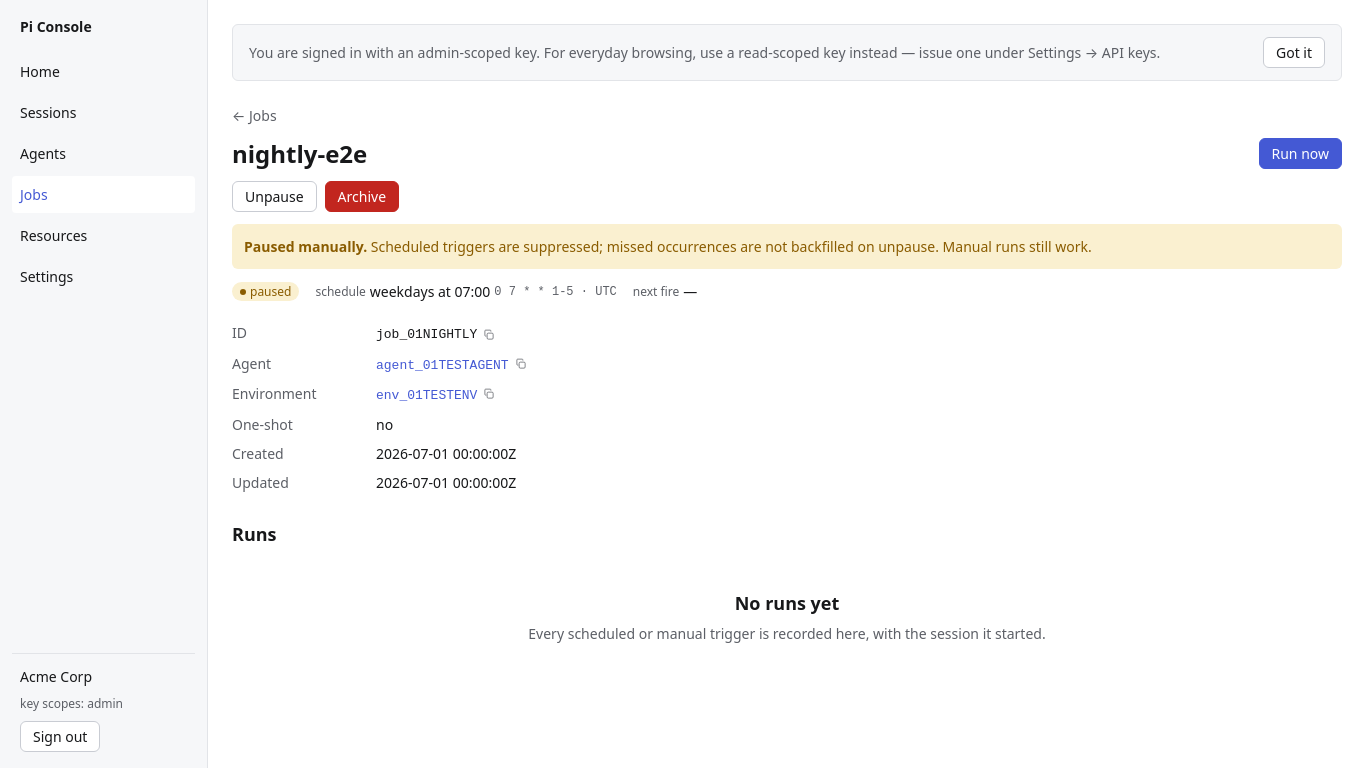
Test: job lifecycle (§9.4, write-gated, §17.5) › admin unpauses a paused job; the pause banner clears
Expected: the message shows "Paused manually.", [244, 237, 367, 256]
Click the button "Unpause" at [274, 197], box [232, 181, 317, 212]
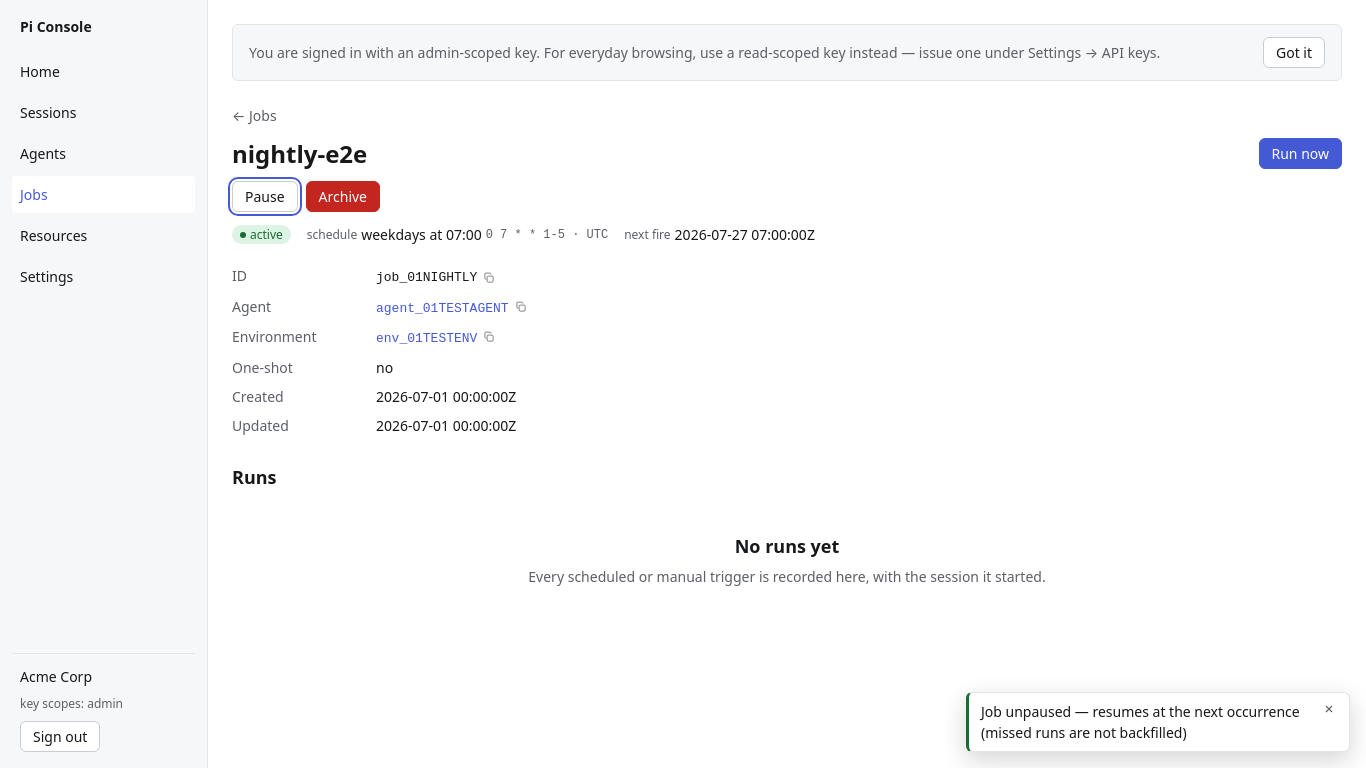
Expected: the button "Pause" is shown, [232, 181, 298, 212]
Expected: the text "Paused manually." is gone
Expected: the text "Job unpaused — resumes at the next occurrence" is shown, [981, 702, 1300, 742]
